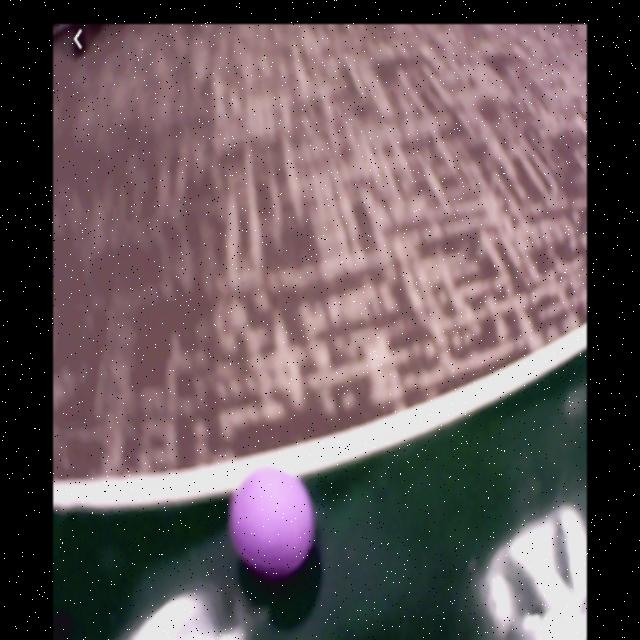ball: (230, 465, 317, 577)
